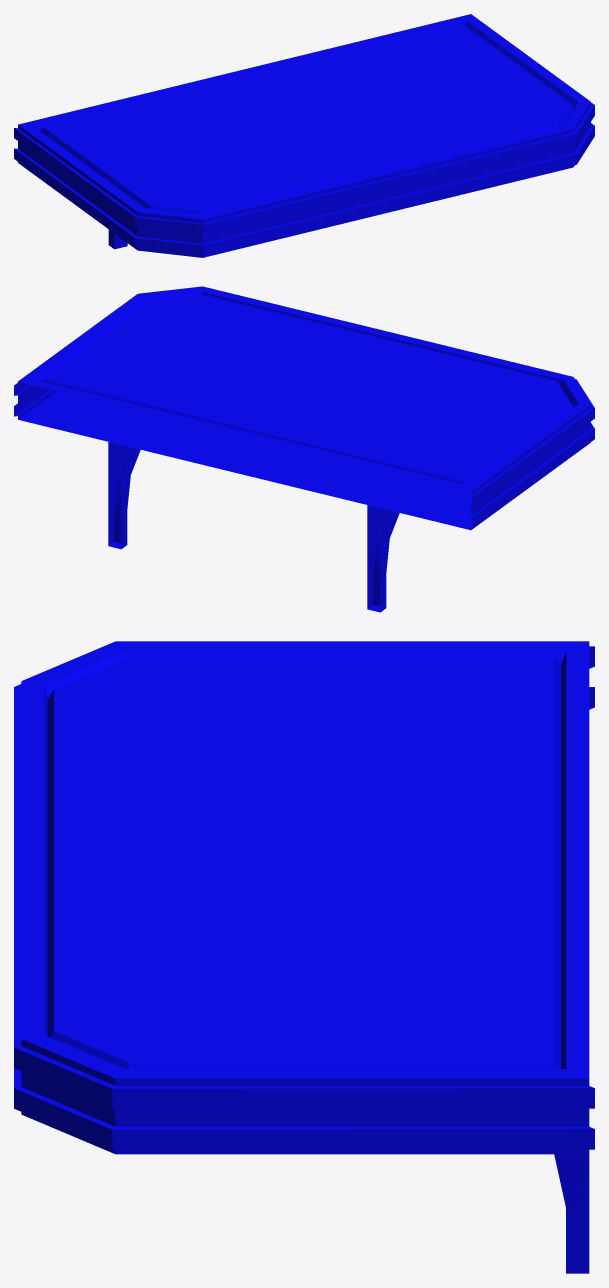
File: Platform_Metal_1.FBX
3 views of the same model, one above another, from view 1: azimuth 30°, elevation 25°; view 2: azimuth 150°, elevation 25°; view 3: azimuth 270°, elevation 25° (orthographic). The views are drawn at different scales.
Visible parts, largest first — view 1: Platform_low; view 2: Platform_low; view 3: Platform_low.
Boxes of the visible parts, box(x1,y1,x2,y2) form: Platform_low: box(14, 14, 594, 257); Platform_low: box(14, 286, 594, 612); Platform_low: box(14, 641, 594, 1273).
Size of the model in its own units: 355 by 105 by 196.
